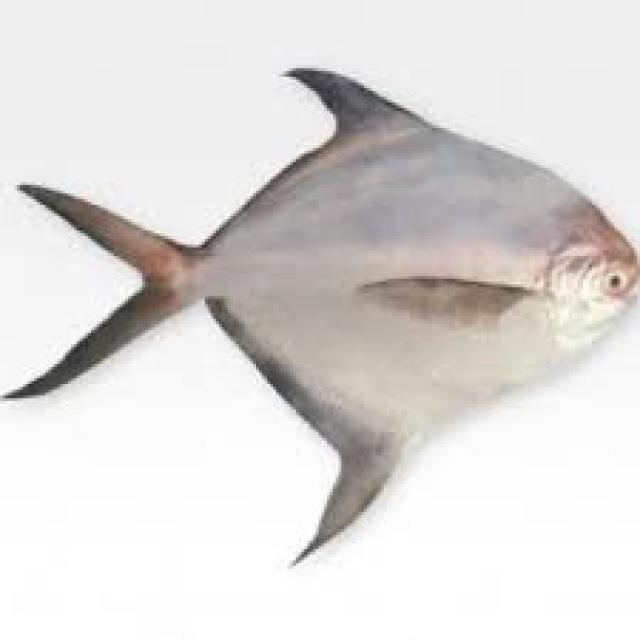pomfred: (14, 69, 637, 561)
